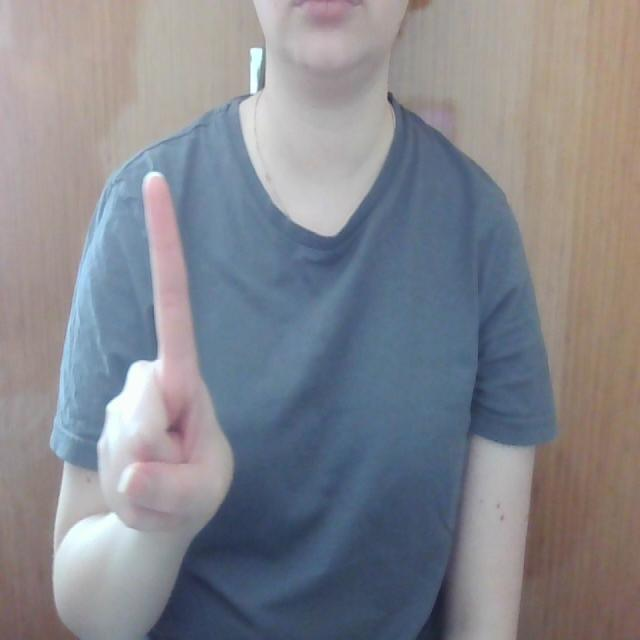Hayir: (86, 146, 242, 548)
